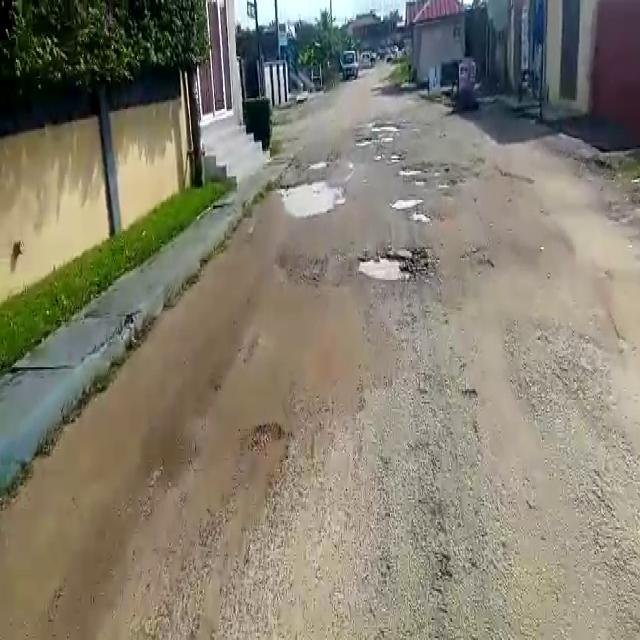Pothole: (354, 245, 429, 282), (278, 179, 347, 217), (392, 196, 426, 214), (408, 207, 434, 226), (396, 168, 422, 179)
